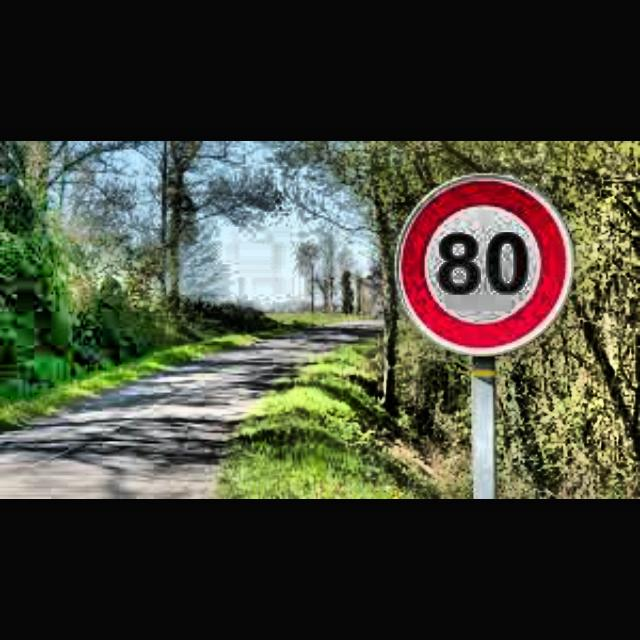speed_80: (395, 172, 575, 356)
